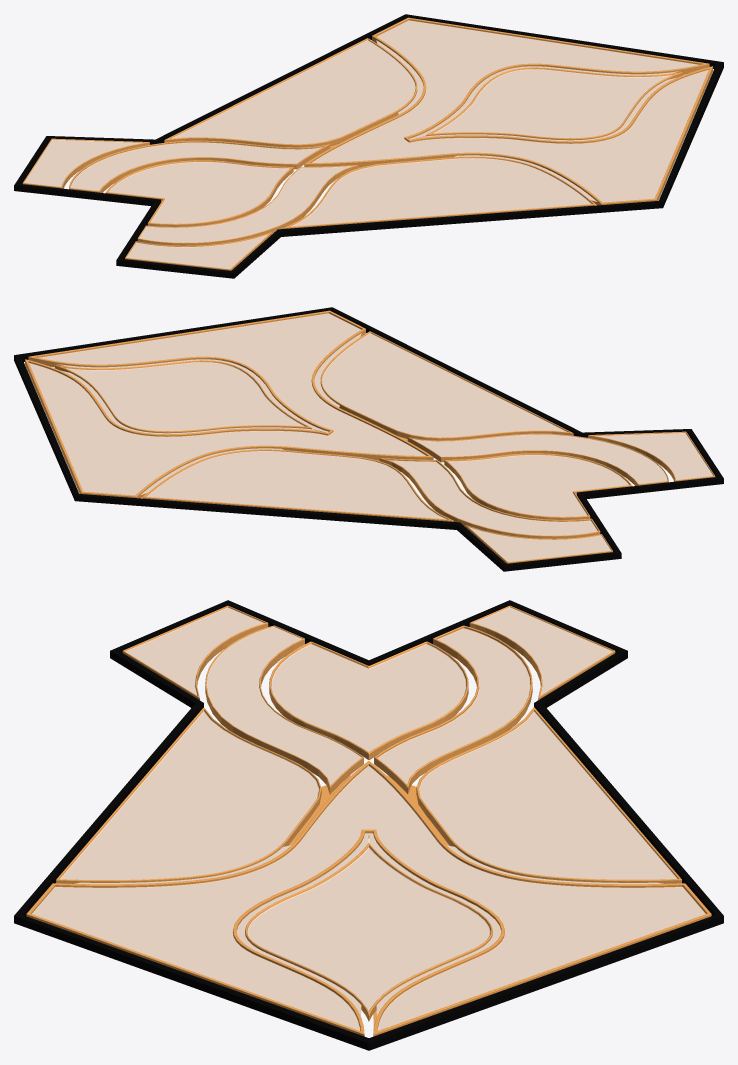
Rendered from platformLeaf.fbx.
3 renders of one model, top to bottom at view 1: azimuth 30°, elevation 25°; view 2: azimuth 150°, elevation 25°; view 3: azimuth 270°, elevation 25°, orthographic. The views are drawn at different scales.
Visible parts, largest first — view 1: Floor, Floor.006, Floor.007, Floor.008, Ring, Floor.001, Floor.002, Floor.003, Floor.005, Floor.004; view 2: Floor, Floor.007, Floor.006, Floor.008, Ring, Floor.001, Floor.003, Floor.002, Floor.004, Floor.005; view 3: Floor, Floor.006, Floor.007, Floor.008, Ring, Floor.001, Floor.003, Floor.002, Floor.005, Floor.004.
Boxes of the visible parts, <box> form: Floor: <box>304,17,712,205</box>; Floor.006: <box>164,38,417,147</box>; Floor.007: <box>284,156,594,228</box>; Floor.008: <box>425,67,682,140</box>; Ring: <box>14,14,723,278</box>; Floor.001: <box>106,160,293,226</box>; Floor.002: <box>69,140,330,192</box>; Floor.003: <box>137,165,358,245</box>; Floor.005: <box>22,138,149,188</box>; Floor.004: <box>125,232,272,270</box>; Floor: <box>25,310,433,498</box>; Floor.007: <box>320,331,573,440</box>; Floor.006: <box>143,449,453,521</box>; Floor.008: <box>55,360,312,433</box>; Ring: <box>14,307,723,571</box>; Floor.001: <box>444,453,631,519</box>; Floor.003: <box>407,433,668,485</box>; Floor.002: <box>379,458,600,538</box>; Floor.004: <box>588,431,715,481</box>; Floor.005: <box>465,525,612,563</box>; Floor: <box>26,761,711,1036</box>; Floor.006: <box>416,707,681,883</box>; Floor.007: <box>56,707,321,883</box>; Floor.008: <box>245,843,492,1021</box>; Ring: <box>14,600,723,1050</box>; Floor.001: <box>269,641,468,759</box>; Floor.003: <box>205,625,363,794</box>; Floor.002: <box>374,625,532,793</box>; Floor.005: <box>469,605,615,700</box>; Floor.004: <box>122,605,268,700</box>.
Bounding box in the file's own units: 2504 × 21.45 × 1695.
